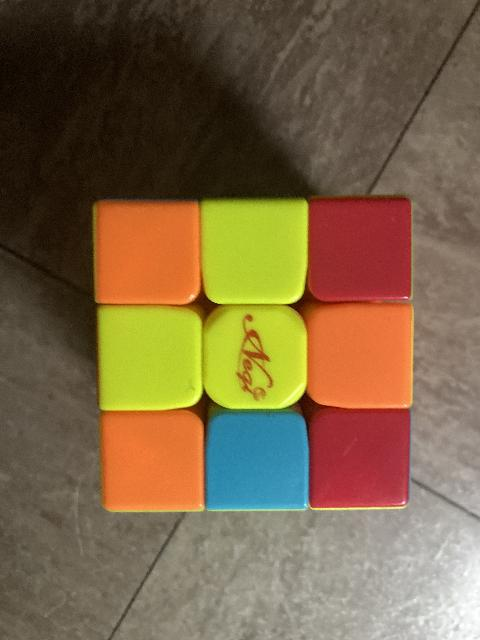Blue: (212, 417, 304, 508)
Orange: (95, 202, 201, 302), (310, 305, 412, 407), (106, 416, 204, 512)
Red: (310, 200, 412, 296), (313, 414, 407, 504)
Yellow: (96, 308, 200, 406), (208, 307, 306, 407), (204, 206, 304, 302)
